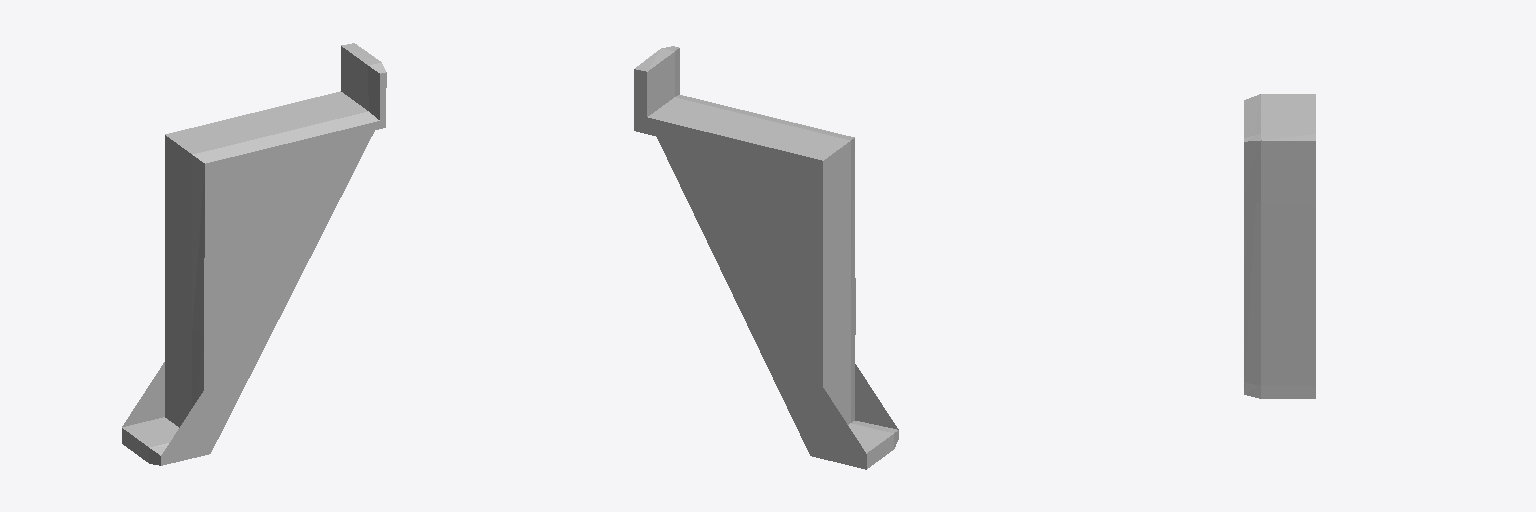
File: WallBig.obj
3 renders of one model, left to right at view 1: azimuth 30°, elevation 25°; view 2: azimuth 150°, elevation 25°; view 3: azimuth 270°, elevation 25°, orthographic.
Visible parts, largest first — view 1: NurbsPath_Mesh; view 2: NurbsPath_Mesh; view 3: NurbsPath_Mesh.
Boxes of the visible parts, x1=… form: NurbsPath_Mesh: x1=122, y1=43, x2=386, y2=465; NurbsPath_Mesh: x1=634, y1=46, x2=898, y2=469; NurbsPath_Mesh: x1=1244, y1=94, x2=1315, y2=398.
Size of the model in its own units: 15.6 by 22.06 by 4.15.